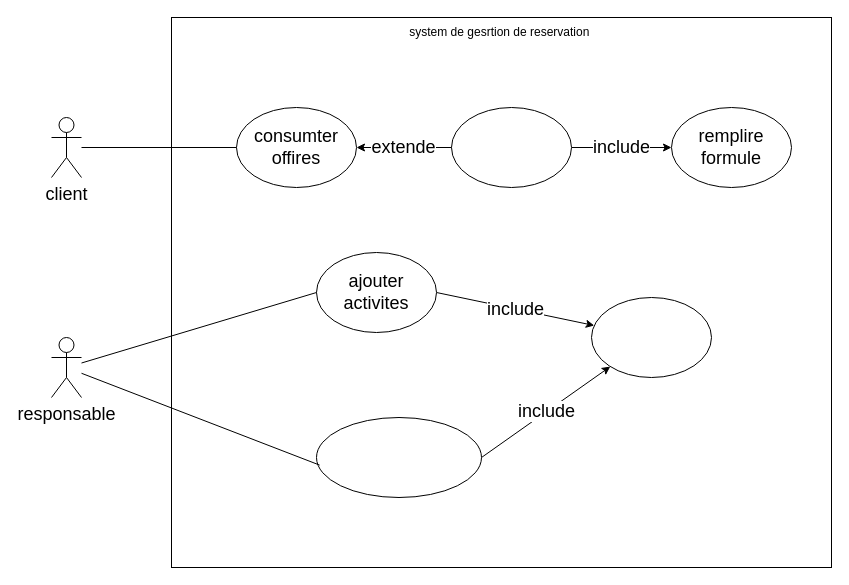
The diagram is 849 pixels wide and 585 high, and some of its shapes have lost their labels. The centre of each missing label's shape, as x and y in pixels:
"authentifier" belongs at point 651,337.
"gerer les domandes de reservation" belongs at point 399,457.
"reserver une place" belongs at point 511,147.
